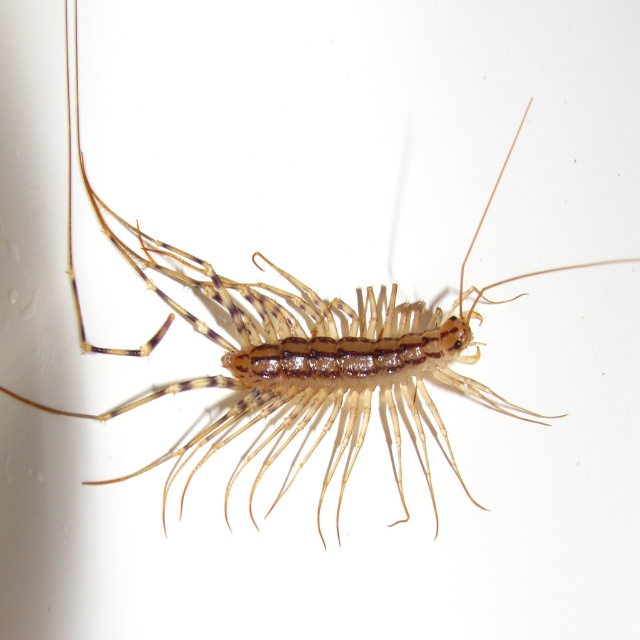Centipede: (0, 0, 640, 550)
